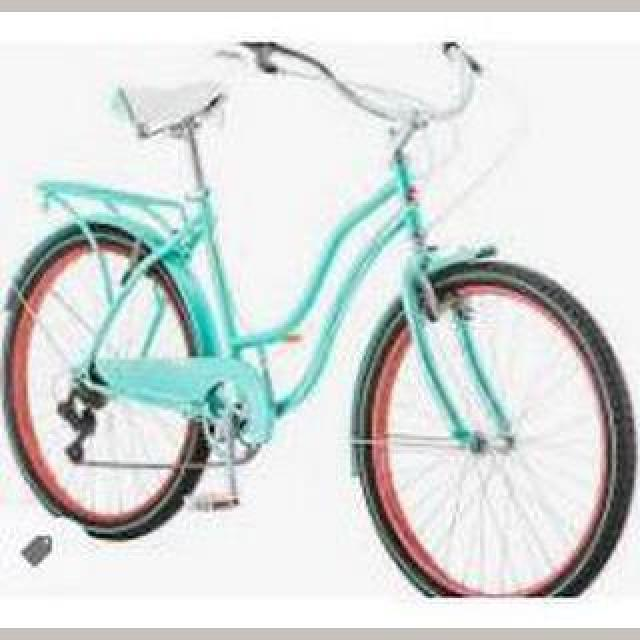Person: (0, 40, 640, 604)
